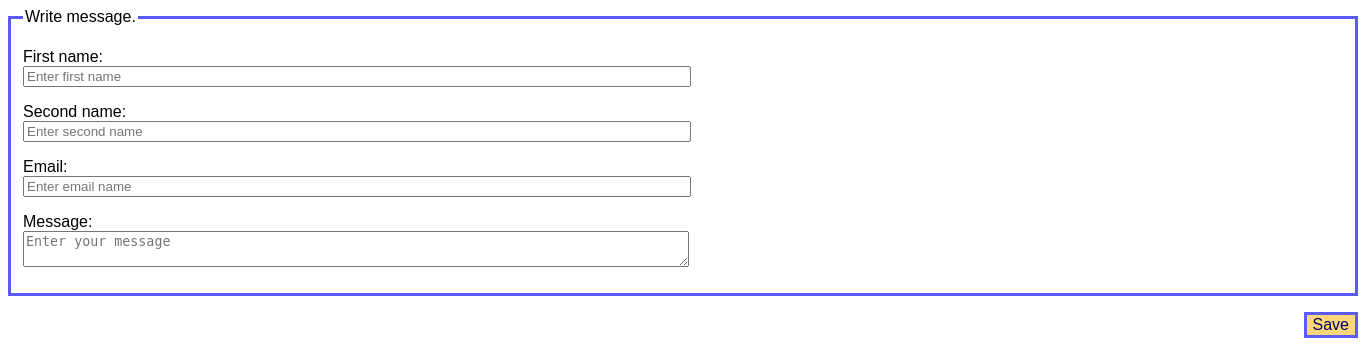
Test case: Message Form › Disables "Save" button if empty form
Click the button "Save": (1331,325) [1304, 312, 1358, 338]
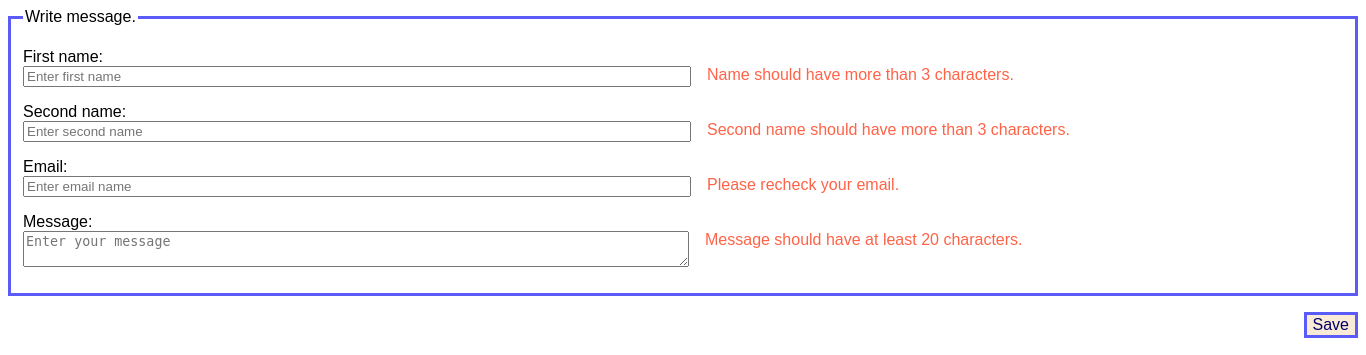
Check: the button "Save" is disabled, box [1304, 312, 1358, 338]
